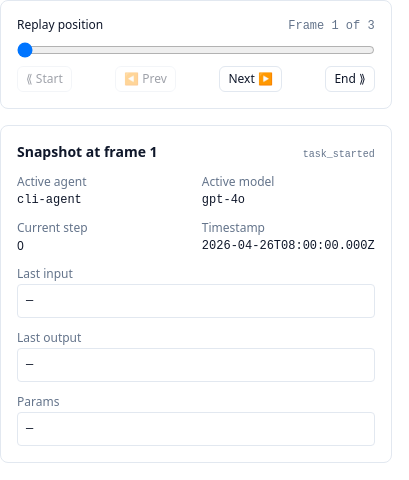
ReplayScrubber — acceptance › advances to the next frame when the slider moves
Set the slider labelled "Replay position" to "2": (367, 50) [17,42,375,58]
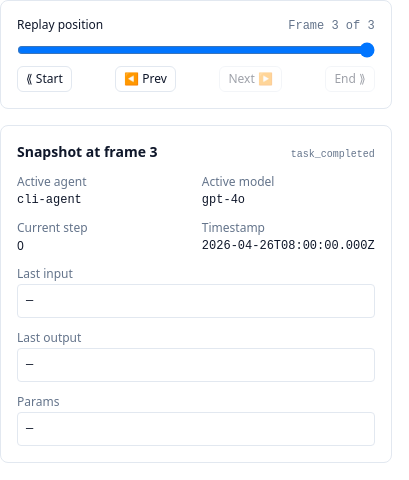
Now the text "Frame 3 of 3" is shown, box [288,18,375,34]
Now the element with test id "replay-snapshot" shows "task_completed", box [291,149,375,160]
